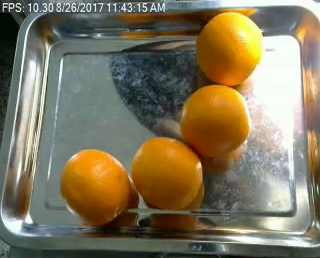Orange: (60, 148, 132, 227), (132, 136, 203, 210), (180, 83, 250, 157), (197, 11, 264, 86)
